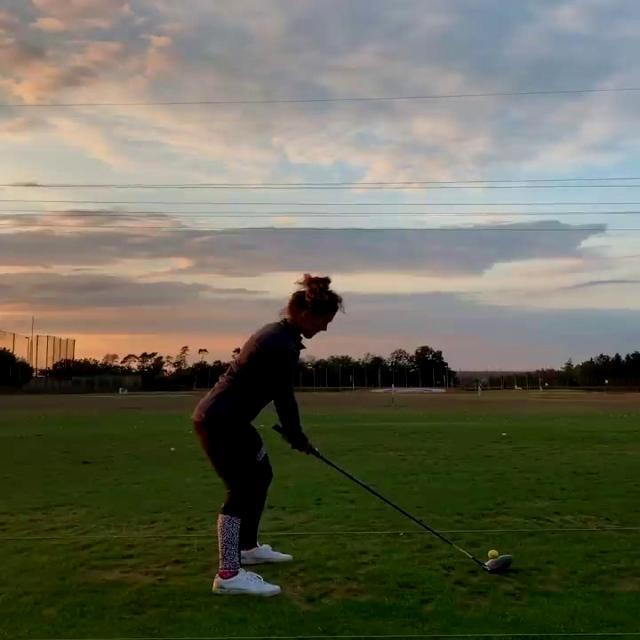golf ball: (488, 550, 498, 558)
golf club-handle: (274, 424, 514, 572)
golf club-head: (485, 555, 514, 572)
